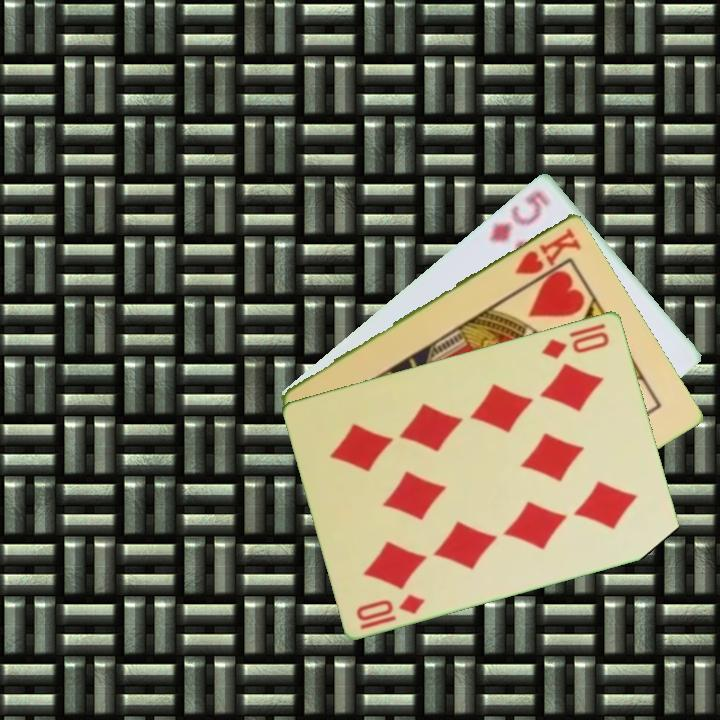10d: (353, 590, 428, 632), (538, 327, 613, 361)
5d: (486, 186, 553, 245)
Kh: (511, 224, 584, 277)
